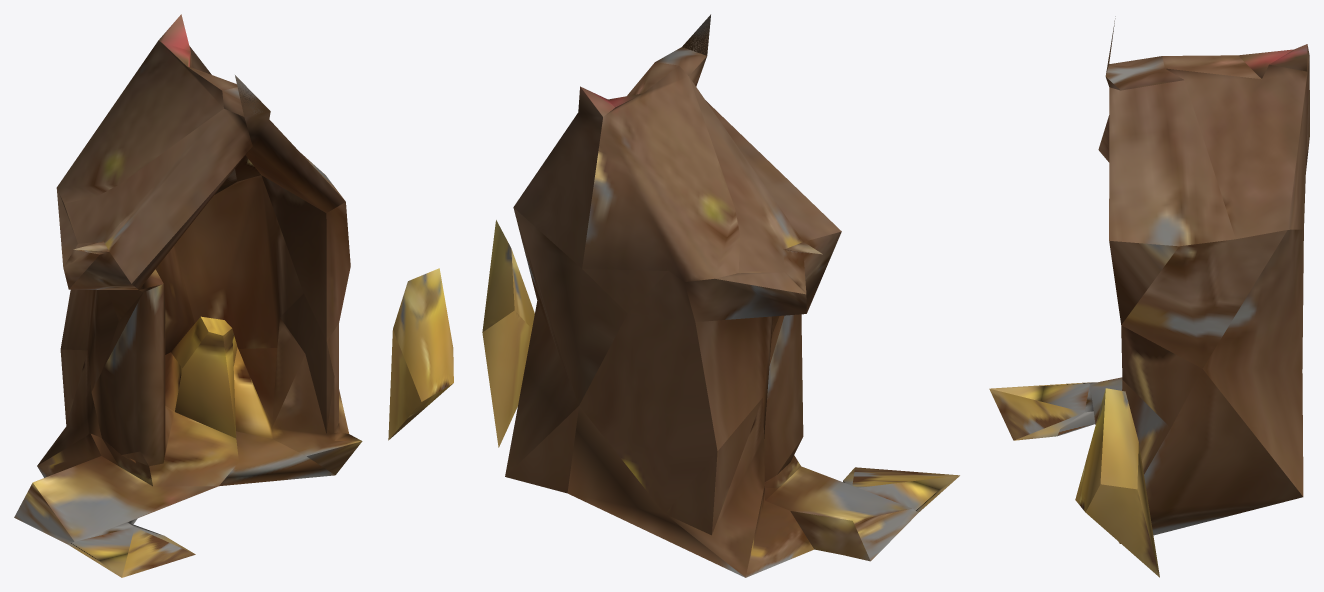
File: Shrine_lod.glb
3 renders of one model, left to right at view 1: azimuth 30°, elevation 25°; view 2: azimuth 150°, elevation 25°; view 3: azimuth 270°, elevation 25°, orthographic. The views are drawn at different scales.
Visible parts, largest first — view 1: Shrine; view 2: Shrine; view 3: Shrine.
Boxes of the visible parts, left/top/right/bottom form: Shrine: left=14, top=14, right=453, bottom=577; Shrine: left=482, top=14, right=959, bottom=577; Shrine: left=989, top=16, right=1309, bottom=577.
Size of the model in its own units: 0.8984 by 0.9296 by 0.5695.
Materials: 1 (1 with a texture image).
